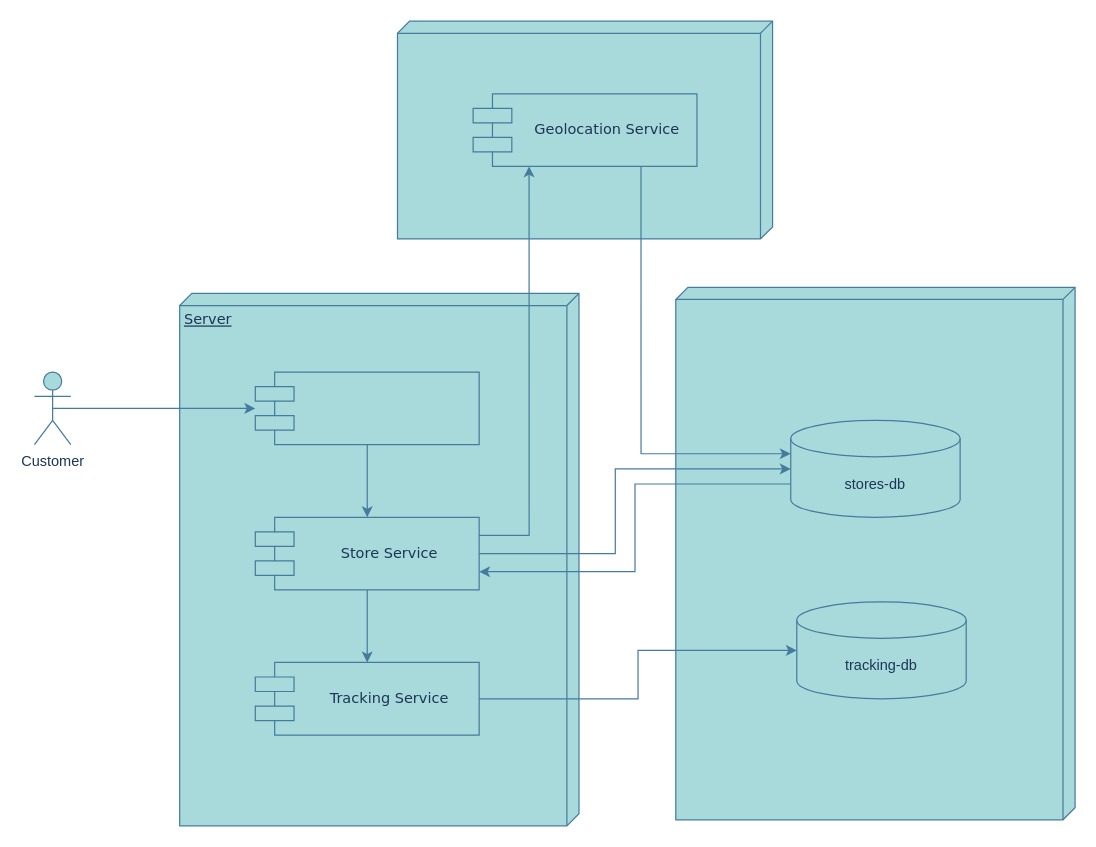
Some shapes in this 1096 by 847 pixel diagram are drawn without their labels. The shapes that lost their labels are listed below. From the top down, each one's box as (x1, y1, x2, y2) in pixels, then its label:
(396, 20, 773, 239): API
(254, 371, 479, 445): Authentication Service
(675, 286, 1075, 820): Database
